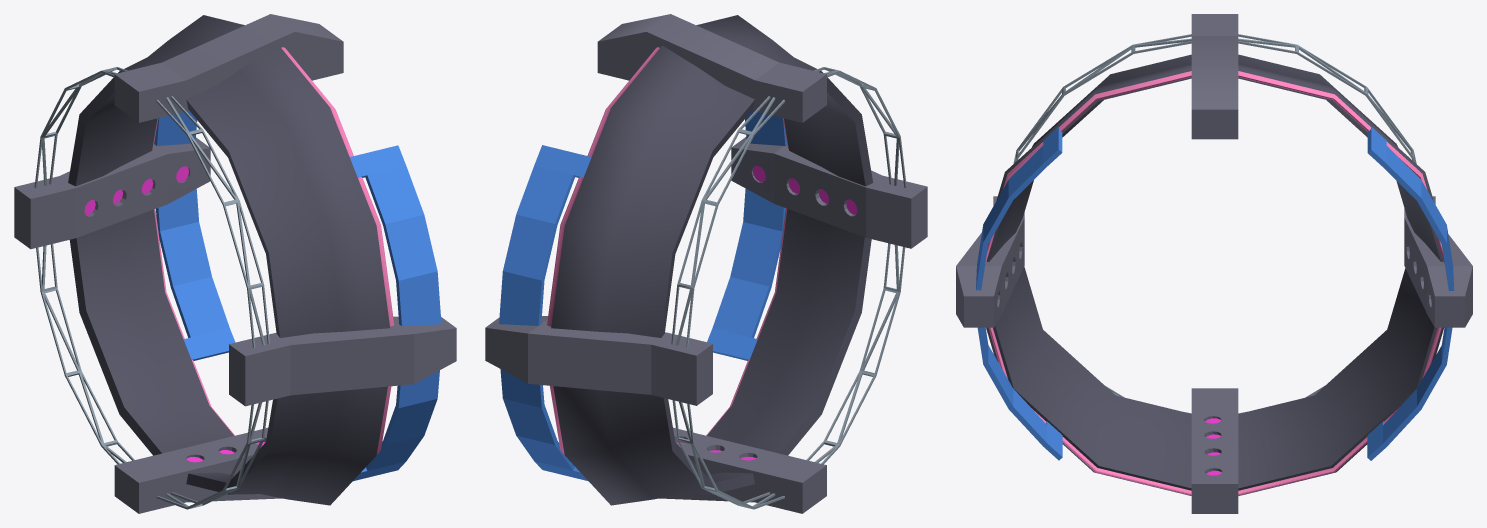
File: SpaceGate.fbx
3 renders of one model, left to right at view 1: azimuth 30°, elevation 25°; view 2: azimuth 150°, elevation 25°; view 3: azimuth 270°, elevation 25°, orthographic. The views are drawn at different scales.
Parts seen in each view (by area): view 1: pCylinder1, pCube5, pCylinder14, pCube7, pCube6, pCylinder17, pCylinder13, pCube8; view 2: pCylinder1, pCube7, pCylinder13, pCube5, pCube6, pCylinder17, pCylinder14, pCube8; view 3: pCylinder1, pCube8, pCube6, pCylinder13, pCylinder14, pCube7, pCube5, pCylinder17.
Part boxes in pixels (x1,y1,x2,y2): pCylinder1: [68, 15, 394, 505]; pCube5: [229, 316, 456, 406]; pCylinder14: [349, 145, 441, 481]; pCube7: [14, 137, 210, 249]; pCube6: [114, 14, 343, 122]; pCylinder17: [34, 67, 269, 509]; pCylinder13: [154, 110, 235, 360]; pCube8: [114, 427, 282, 513]; pCylinder1: [547, 15, 873, 505]; pCube7: [485, 316, 712, 405]; pCylinder13: [499, 145, 591, 481]; pCube5: [731, 137, 927, 248]; pCube6: [597, 14, 826, 122]; pCylinder17: [671, 67, 906, 509]; pCylinder14: [707, 110, 787, 360]; pCube8: [659, 427, 826, 513]; pCylinder1: [985, 54, 1444, 495]; pCube8: [1191, 388, 1238, 513]; pCube6: [1191, 14, 1238, 139]; pCylinder13: [1367, 127, 1454, 460]; pCylinder14: [976, 126, 1062, 460]; pCube7: [1404, 196, 1472, 327]; pCube5: [956, 196, 1024, 327]; pCylinder17: [1013, 34, 1416, 413].
Size of the model in its own units: 137 by 297 by 311.
